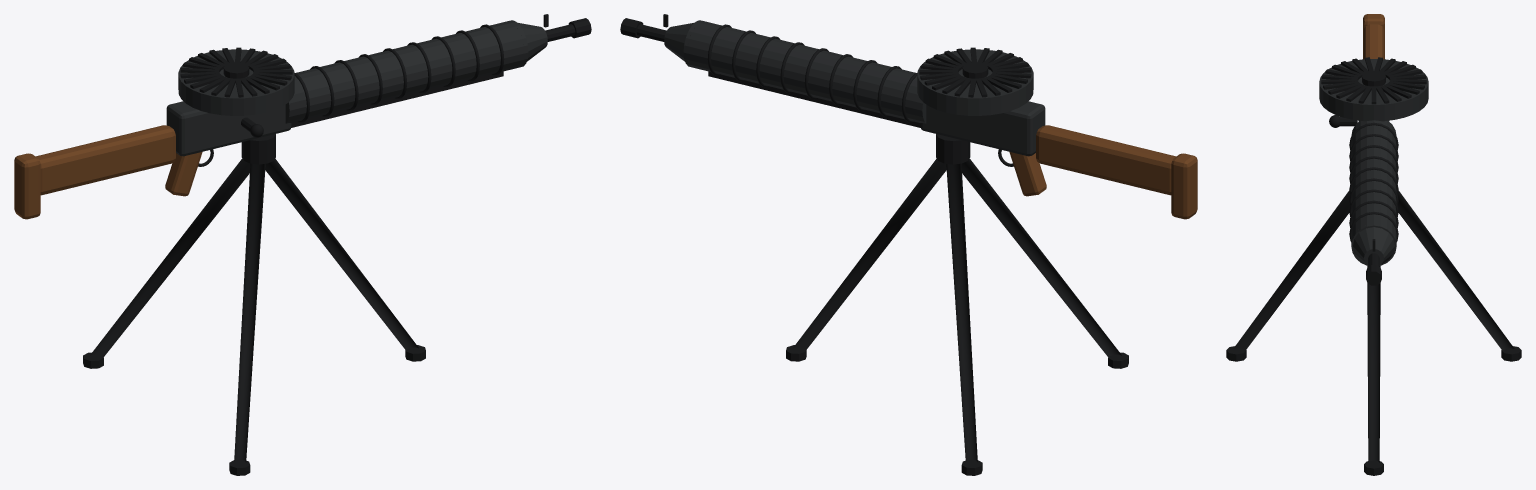
Rendered from gun.glb.
3 views of the same model, side by side, from view 1: azimuth 30°, elevation 25°; view 2: azimuth 150°, elevation 25°; view 3: azimuth 270°, elevation 25° (orthographic). The views are drawn at different scales.
Visible parts, largest first — view 1: KEEP Lewis, KEEP Tripod, KEEP Pan; view 2: KEEP Lewis, KEEP Tripod, KEEP Pan; view 3: KEEP Lewis, KEEP Tripod, KEEP Pan.
Boxes of the visible parts, x1,y1,x2,y2 form: KEEP Lewis: [14, 14, 591, 219]; KEEP Tripod: [83, 134, 425, 475]; KEEP Pan: [178, 47, 294, 115]; KEEP Lewis: [620, 14, 1197, 219]; KEEP Tripod: [786, 134, 1128, 475]; KEEP Pan: [917, 47, 1033, 115]; KEEP Lewis: [1349, 14, 1398, 285]; KEEP Tripod: [1226, 191, 1521, 475]; KEEP Pan: [1319, 57, 1428, 121].
Bounding box in the file's own units: 1.52 × 0.853 × 0.7291.
